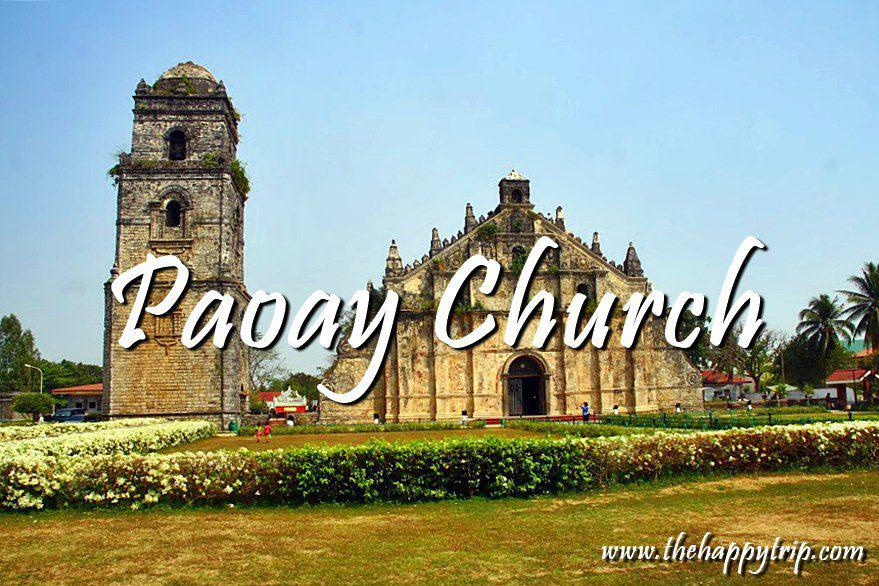paoay_church_paoay_ilocos_norte: (97, 55, 712, 421)
vegetation_damage: (226, 155, 259, 201), (507, 247, 529, 279), (477, 221, 504, 239), (455, 302, 486, 314)
